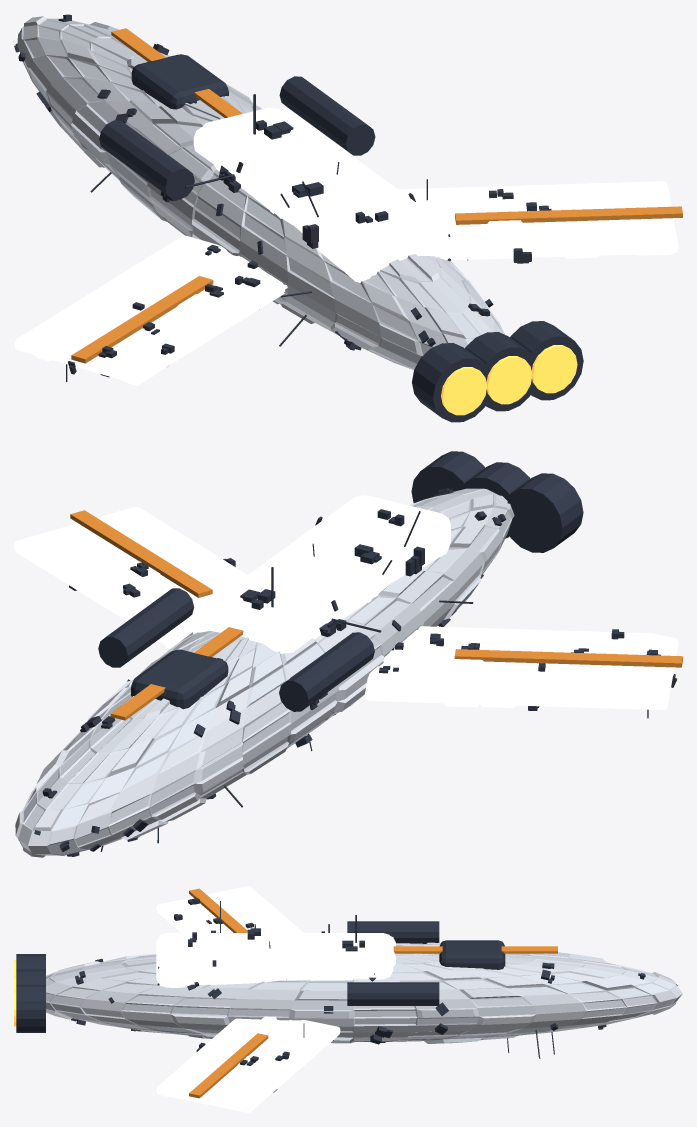
File: humans_cruiser.glb
3 renders of one model, top to bottom at view 1: azimuth 30°, elevation 25°; view 2: azimuth 150°, elevation 25°; view 3: azimuth 270°, elevation 25°, orthographic. The views are drawn at different scales.
Parts seen in each view (by area): view 1: humans_cruiser; view 2: humans_cruiser; view 3: humans_cruiser.
Part boxes in pixels (left/top/right/bottom): humans_cruiser: left=14, top=14, right=682, bottom=422; humans_cruiser: left=14, top=451, right=682, bottom=857; humans_cruiser: left=14, top=886, right=682, bottom=1112.
Size of the model in its own units: 7.81 by 2.25 by 10.
